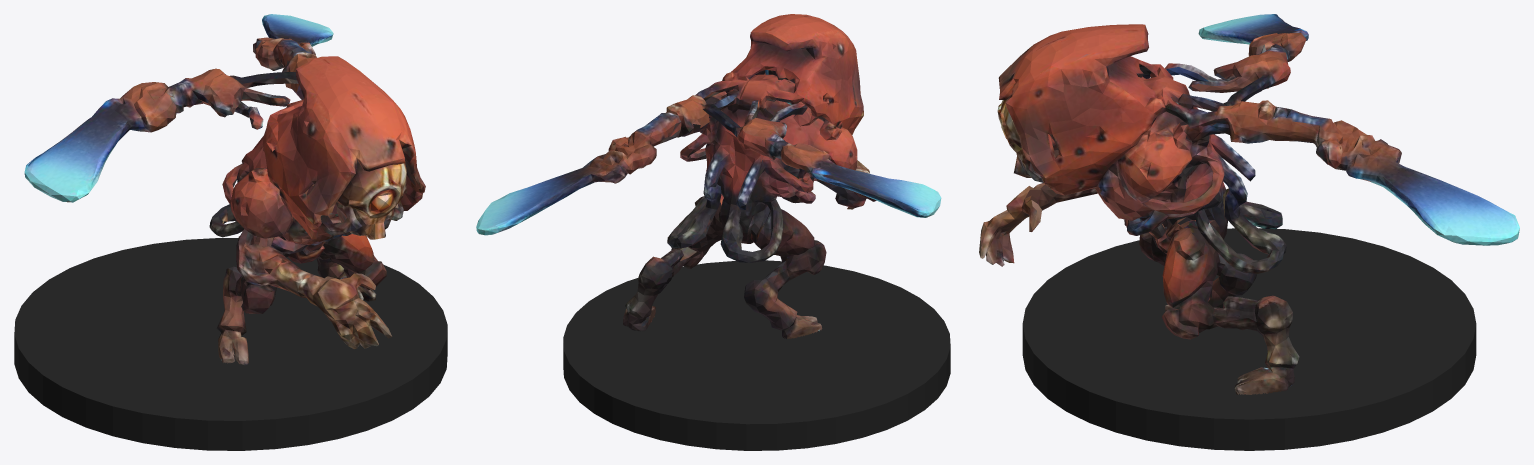
The model's file is hc-sicarian-ruststalker-warrior.glb.
3 views of the same model, side by side, from view 1: azimuth 30°, elevation 25°; view 2: azimuth 150°, elevation 25°; view 3: azimuth 270°, elevation 25° (orthographic). The views are drawn at different scales.
Parts seen in each view (by area): view 1: base, figure; view 2: base, figure; view 3: figure, base.
Part boxes in pixels (x1=…): base: x1=14, y1=238, x2=447, y2=450; figure: x1=24, y1=14, x2=425, y2=364; base: x1=563, y1=260, x2=950, y2=450; figure: x1=476, y1=14, x2=941, y2=339; figure: x1=979, y1=14, x2=1519, y2=394; base: x1=1022, y1=228, x2=1476, y2=450.
Size of the model in its own units: 1.66 by 1.32 by 1.88.
Materials: 2 (1 with a texture image).
